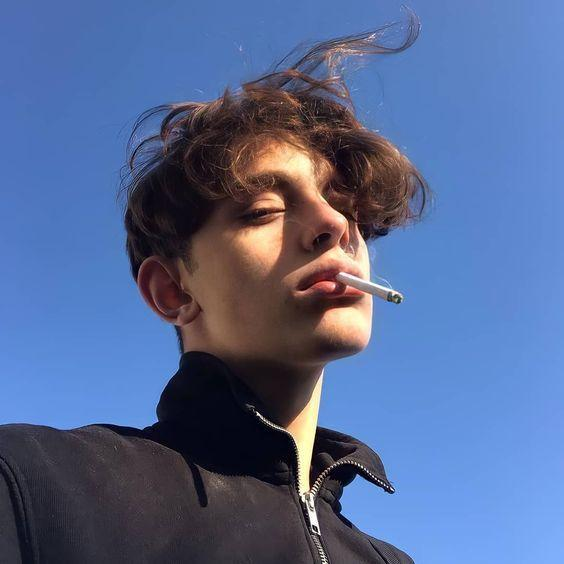cigarette: (333, 271, 403, 303)
